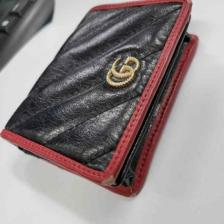wallet: (1, 2, 201, 207)
